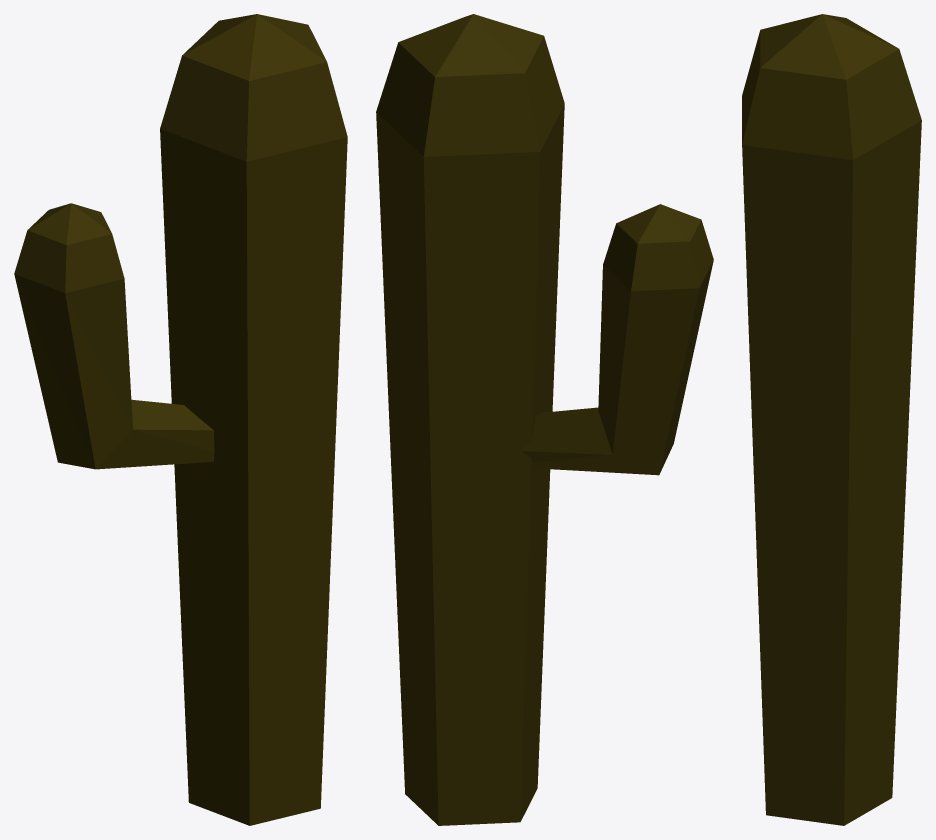
Rendered from Cactus2.fbx.glb.
3 renders of one model, left to right at view 1: azimuth 30°, elevation 25°; view 2: azimuth 150°, elevation 25°; view 3: azimuth 270°, elevation 25°, orthographic.
Visible parts, largest first — view 1: Cactus2; view 2: Cactus2; view 3: Cactus2.
Part boxes in pixels (box(x1,y1,x2,y2)): Cactus2: box(14, 14, 347, 825); Cactus2: box(376, 14, 713, 825); Cactus2: box(742, 14, 921, 825).
Size of the model in its own units: 43.98 by 104 by 21.67.
